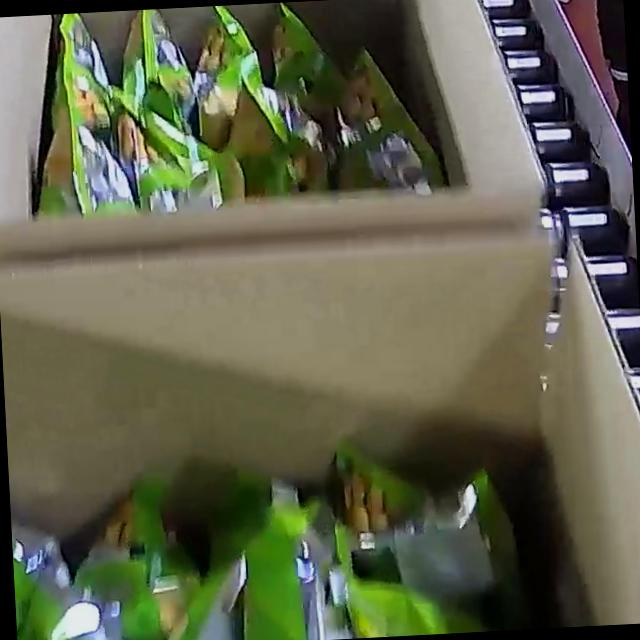yogurt: (7, 436, 565, 640), (26, 0, 446, 219)
